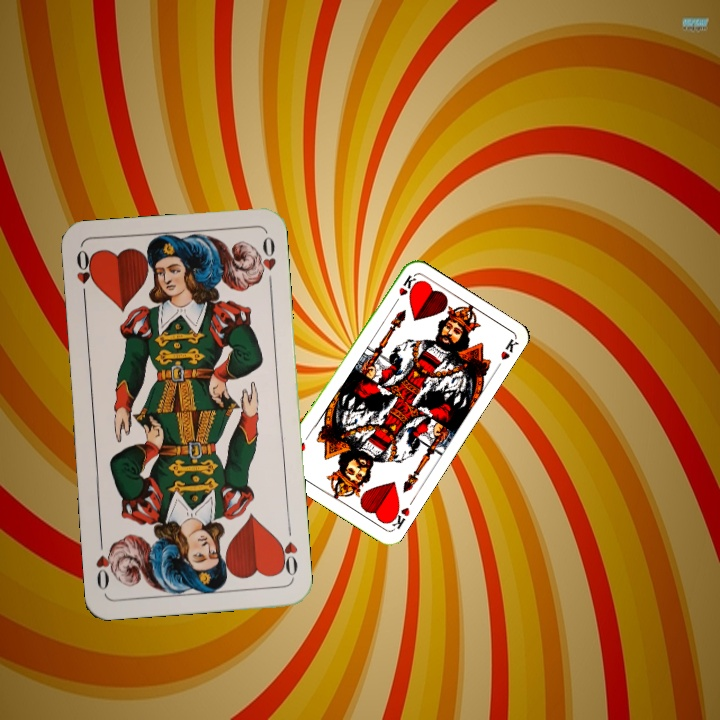HK: (390, 271, 419, 308), (384, 501, 413, 532)
HO: (274, 521, 301, 580), (72, 245, 96, 305)
